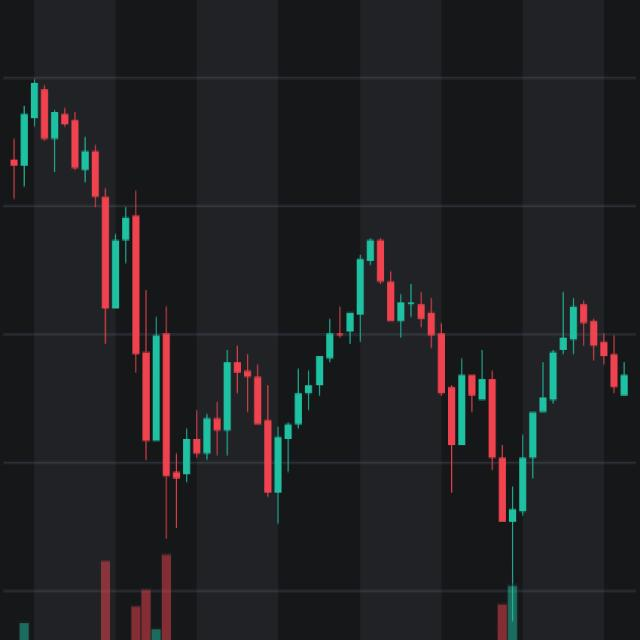Resistance-Emerging: (115, 209, 636, 533)
